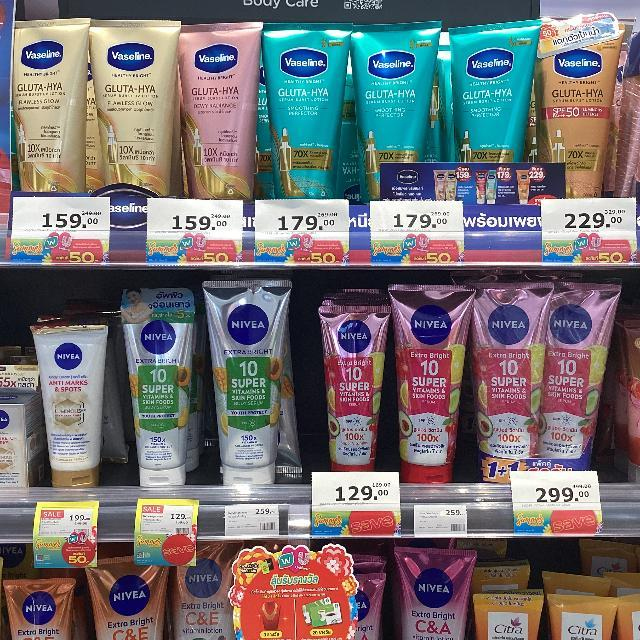Squeeze Tube: (199, 275, 297, 487), (176, 14, 264, 210), (350, 11, 441, 200), (30, 315, 124, 496), (90, 8, 179, 199), (476, 265, 552, 486), (539, 10, 624, 198), (443, 22, 537, 190), (124, 285, 198, 492), (268, 20, 347, 209), (550, 284, 624, 485), (12, 12, 92, 196), (396, 279, 460, 496), (319, 288, 393, 467), (410, 544, 480, 640), (92, 561, 168, 640), (186, 549, 245, 640), (549, 577, 625, 640), (8, 576, 80, 640), (479, 584, 555, 640), (348, 549, 391, 640)
